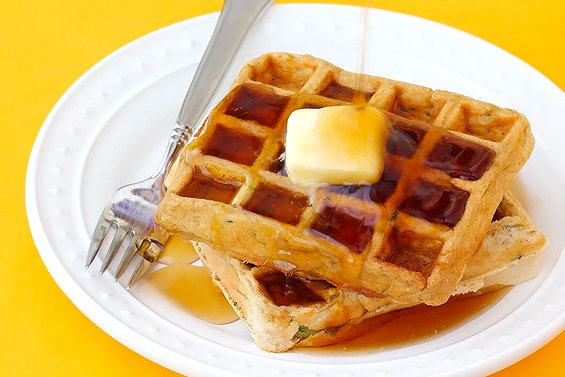burger: (85, 0, 275, 288)
